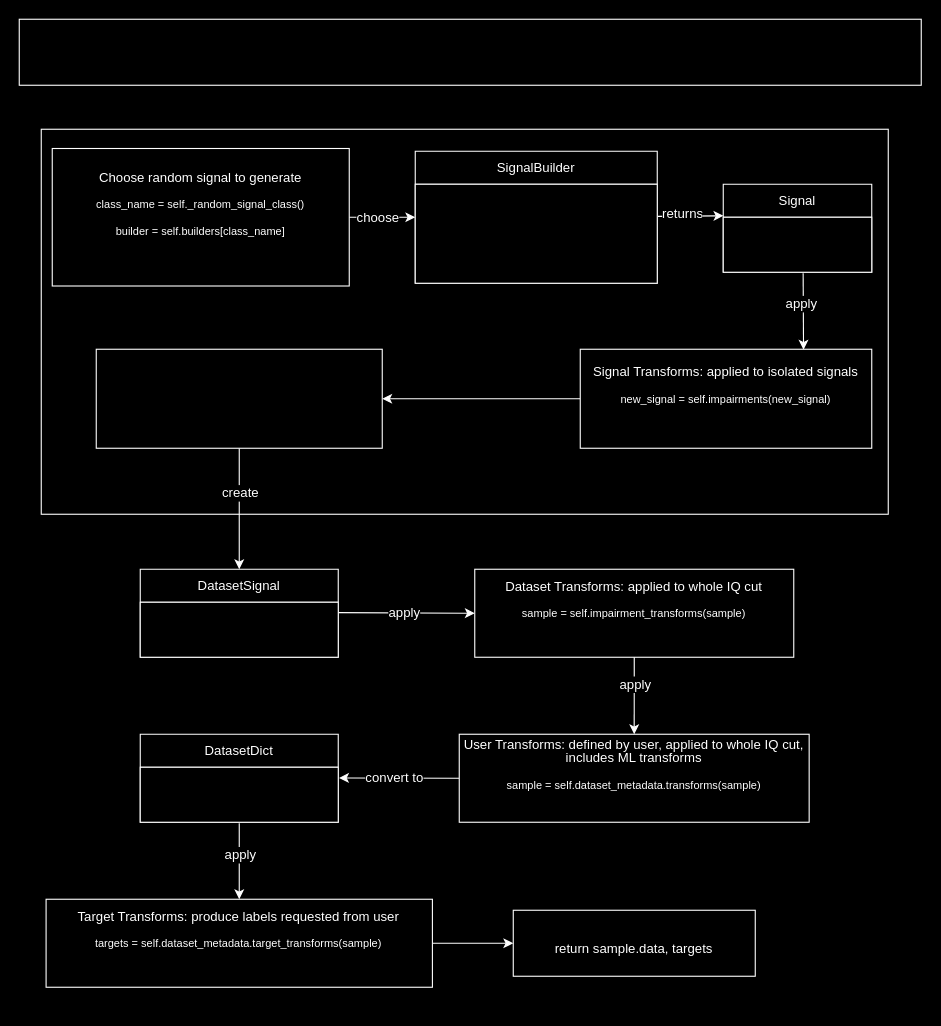
Some shapes in this 941 by 1026 pixel diagram are drawn without their labels. The centre of each missing label's shape, as x and y in pixels:
"data: np.ndarray metadata: [dict]" belongs at point 238,794.
"data: np.ndarray metadata: [SignalMetadata]" belongs at point 238,629.
"data: np.ndarray metadata: SignalMetadata" belongs at point 797,244.
"Modulator -> clean basebanded signal builder.build()" belongs at point 535,233.
"NewDataset __getitem__ Workflow" belongs at point 469,51.
"Place on narrowband/wideband cut iq_samples[start:stop] += new_signal.data" belongs at point 238,398.
